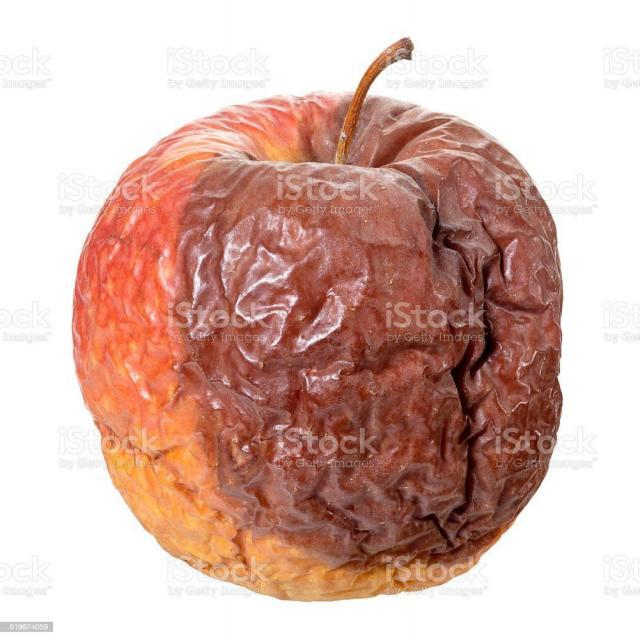Rotten: (66, 93, 572, 607)
